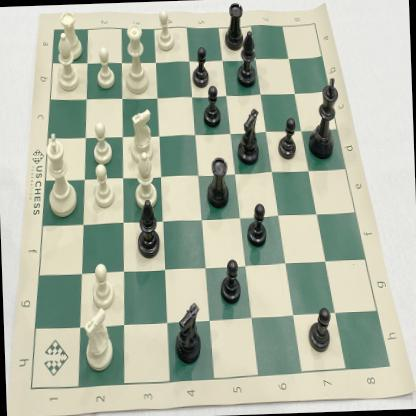bishop: (130, 196, 162, 262), (51, 31, 83, 94), (132, 150, 160, 212), (235, 26, 260, 92)
king: (304, 74, 342, 164), (43, 128, 80, 218)
knight: (82, 304, 116, 376), (172, 298, 204, 368), (234, 106, 262, 170), (127, 106, 156, 166)
pawn: (305, 301, 334, 356), (216, 255, 244, 306), (89, 260, 116, 312), (245, 200, 269, 252), (274, 113, 299, 162), (91, 160, 116, 209), (189, 42, 213, 90), (152, 6, 176, 54), (200, 84, 225, 130), (94, 46, 118, 92), (91, 120, 114, 165)
queen: (123, 20, 151, 98)
rook: (204, 150, 233, 211), (220, 0, 248, 55), (58, 9, 84, 64)
